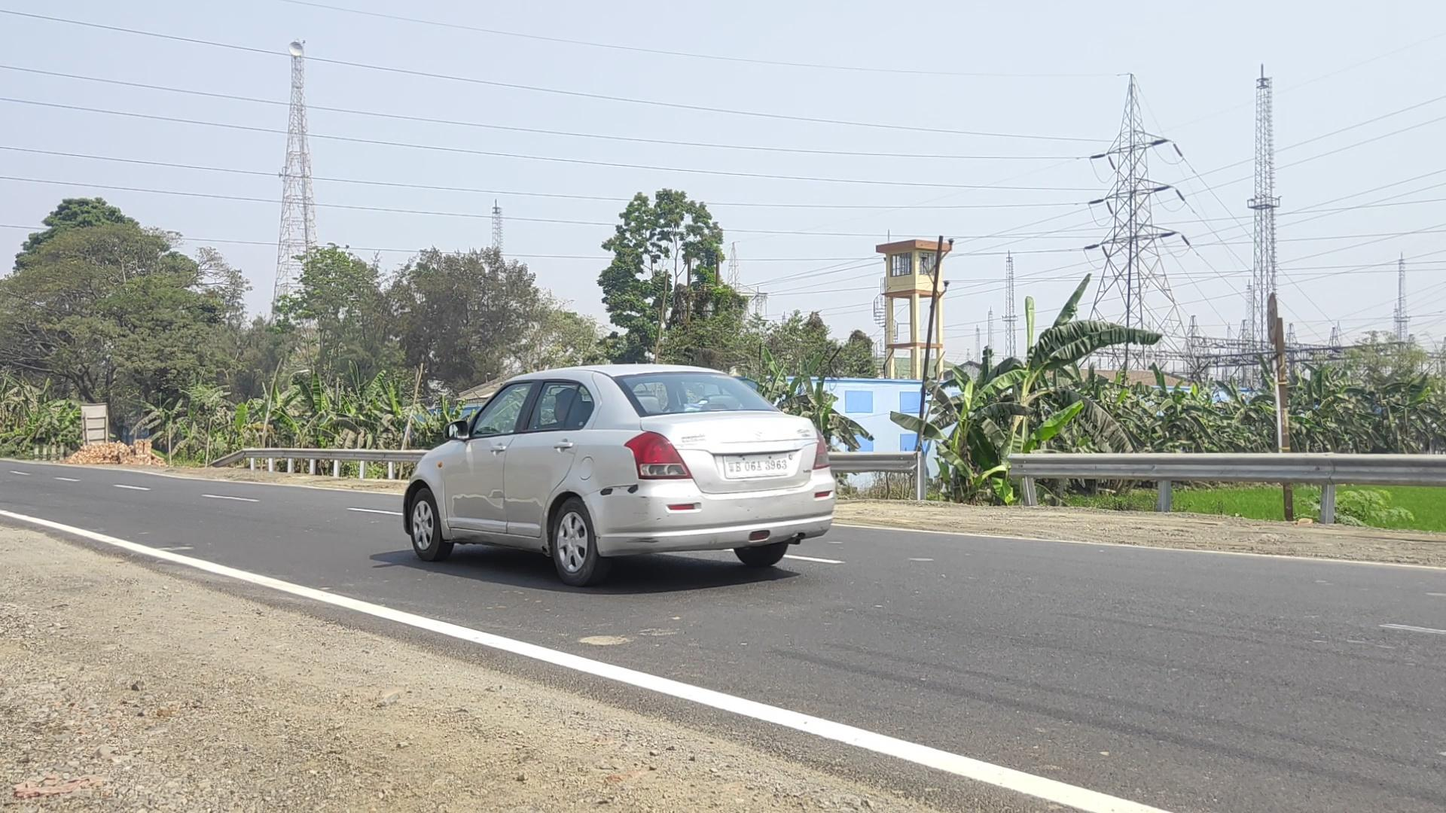car: (403, 364, 837, 586)
